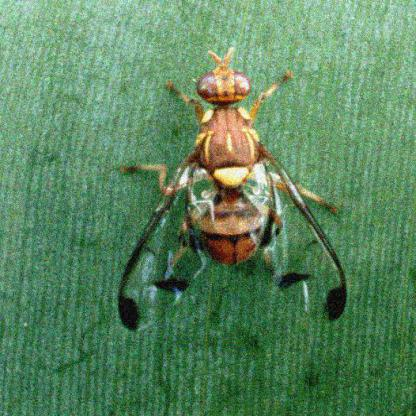fruit fly: (118, 47, 349, 330)
